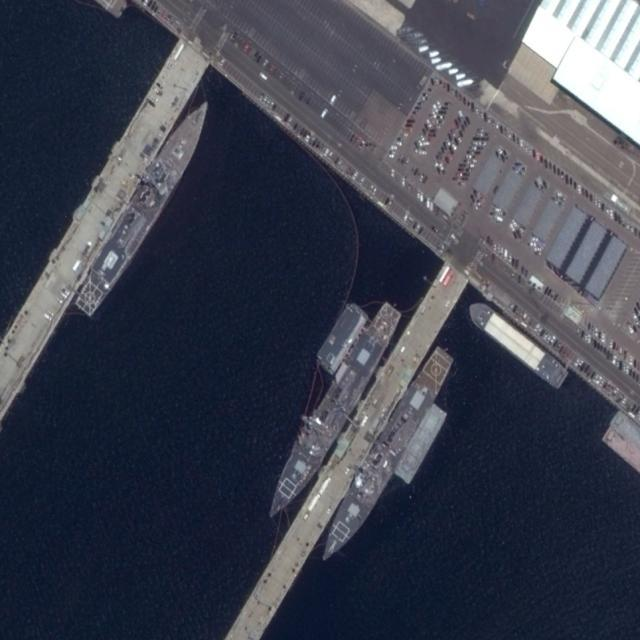Destroyer: (256, 297, 408, 528), (70, 89, 220, 323), (313, 340, 457, 573)
Other Ship: (463, 291, 571, 392)
